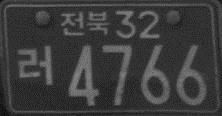2: (138, 9, 160, 40)
3: (114, 8, 135, 40)
4: (67, 44, 99, 106)
6: (174, 43, 208, 105), (140, 43, 171, 106)
7: (101, 43, 133, 107)
더: (60, 10, 110, 36)
러: (15, 45, 52, 88)
